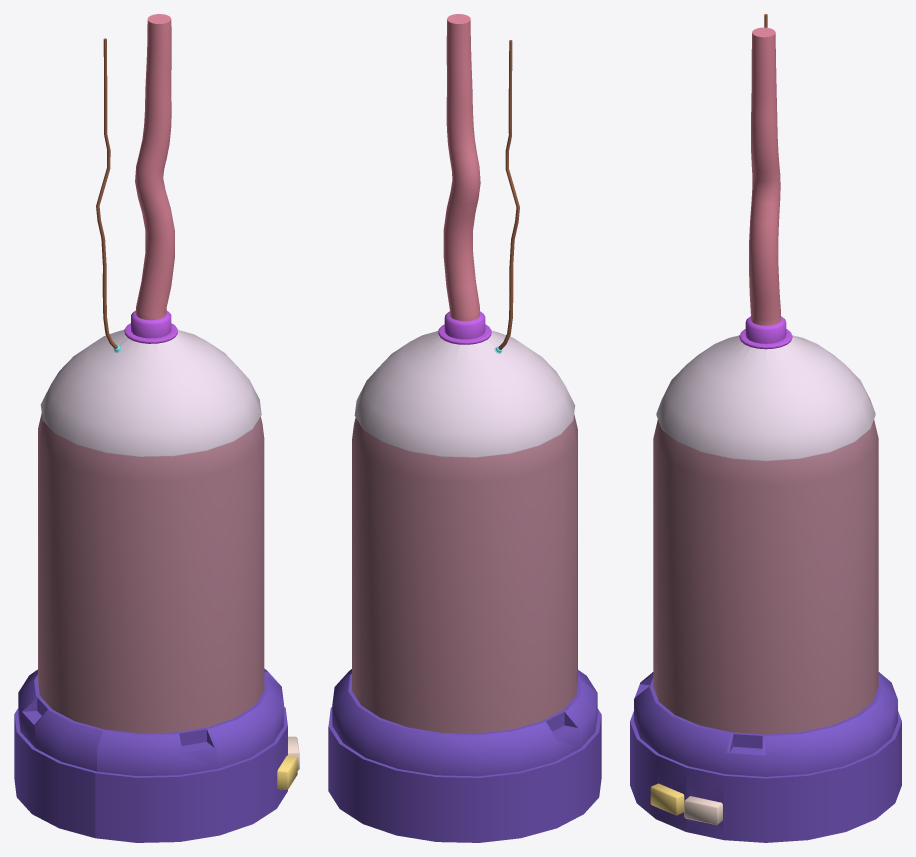
3 views of the same model, side by side, from view 1: azimuth 30°, elevation 25°; view 2: azimuth 150°, elevation 25°; view 3: azimuth 270°, elevation 25° (orthographic).
Visible parts, largest first — view 1: Object_3, split_parent_0, split_parent_2, Object_7, split_parent_8, Object_6, Object_5.005; view 2: Object_3, split_parent_0, split_parent_2, Object_7, split_parent_8, Object_6; view 3: Object_3, split_parent_0, split_parent_2, Object_7, Object_6, Object_5, Object_5.005.
Part boxes in pixels (x1=…): Object_3: x1=38, y1=413, x2=264, y2=733; split_parent_0: x1=14, y1=668, x2=287, y2=842; split_parent_2: x1=40, y1=329, x2=261, y2=456; Object_7: x1=135, y1=14, x2=174, y2=320; split_parent_8: x1=96, y1=38, x2=117, y2=348; Object_6: x1=124, y1=310, x2=177, y2=343; Object_5.005: x1=277, y1=755, x2=297, y2=789; Object_3: x1=352, y1=414, x2=577, y2=733; split_parent_0: x1=328, y1=669, x2=601, y2=842; split_parent_2: x1=354, y1=330, x2=575, y2=457; Object_7: x1=443, y1=14, x2=480, y2=321; split_parent_8: x1=498, y1=40, x2=519, y2=349; Object_6: x1=438, y1=311, x2=491, y2=344; Object_3: x1=653, y1=419, x2=878, y2=734; split_parent_0: x1=630, y1=672, x2=901, y2=842; split_parent_2: x1=656, y1=335, x2=875, y2=461; Object_7: x1=749, y1=27, x2=780, y2=325; Object_6: x1=739, y1=316, x2=792, y2=349; Object_5: x1=684, y1=796, x2=722, y2=824; Object_5.005: x1=650, y1=783, x2=684, y2=815.
Bounding box in the file's own units: 0.3286 × 1 × 0.3257.
